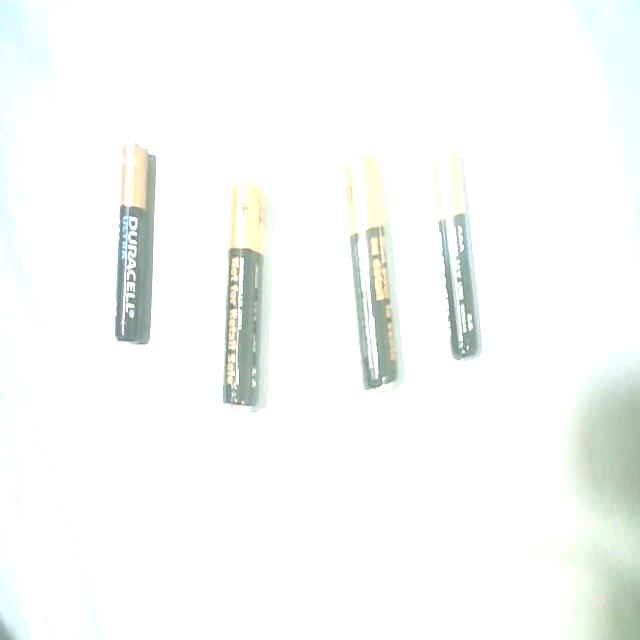AA: (339, 148, 407, 402), (220, 176, 272, 418)
AAA: (429, 144, 486, 370), (112, 136, 160, 354)
